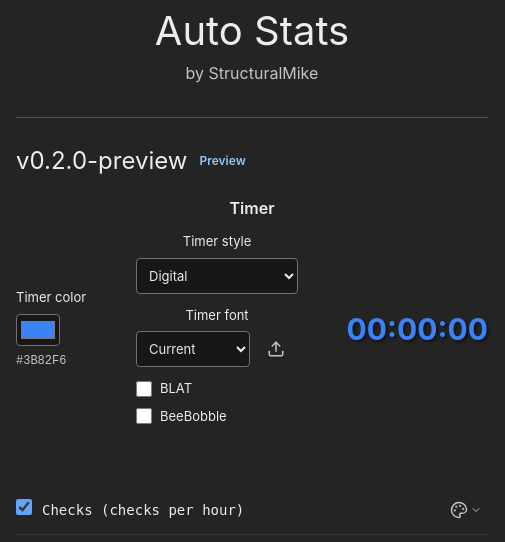
preview editor draft and save lifecycle › shows the words language only for Words and keeps it across styles
Expected: the field labelled "Words language" is not shown
Select "Words" in the dropdown labelled "Timer style" at x=217, y=276, box [136, 258, 298, 294]
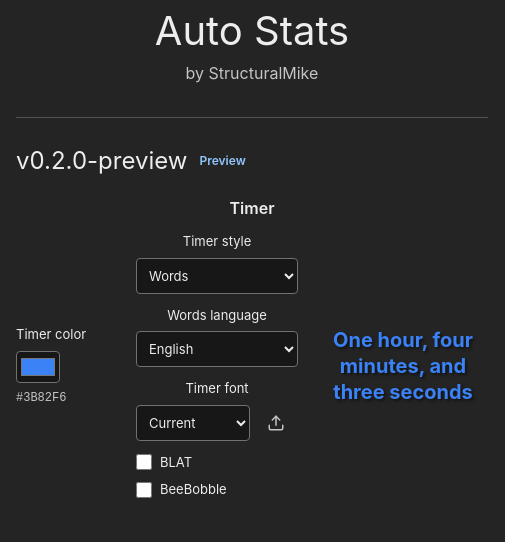
Now the dropdown labelled "Words language" shows "English"
Select "한국어" in the dropdown labelled "Words language" at x=217, y=349, box [136, 331, 298, 367]
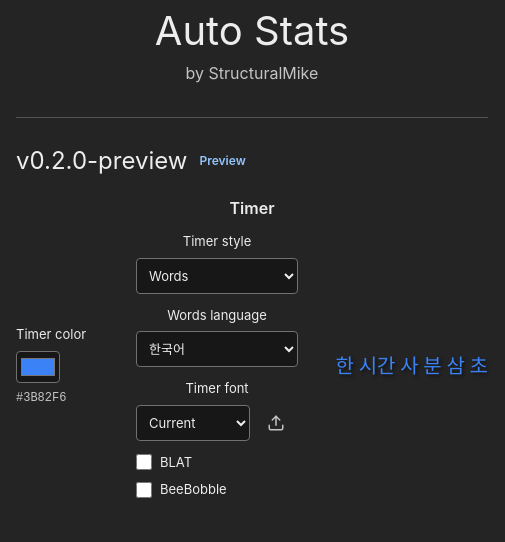
Now the element named "Timer preview" reads "한 시간 사 분 삼 초", box [336, 354, 488, 378]
Select "Roman numerals" in the dropdown labelled "Timer style" at x=217, y=276, box [136, 258, 298, 294]
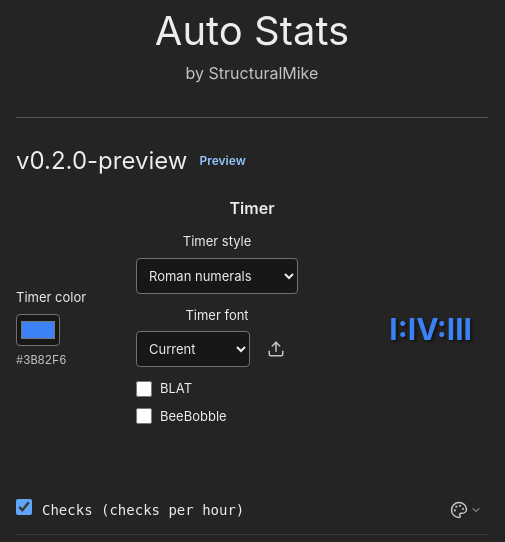
Now the label labelled "Words language" is gone
Now the element named "Timer preview" reads "I:IV:III", box [389, 310, 472, 346]
Select "Words" in the dropdown labelled "Timer style" at x=217, y=276, box [136, 258, 298, 294]
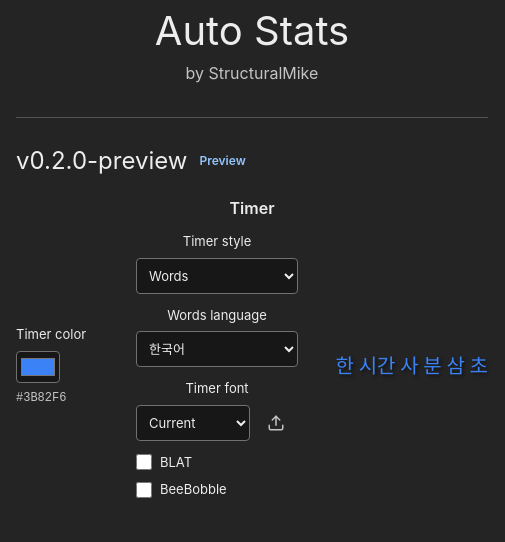
Now the dropdown labelled "Words language" shows "한국어"
Select "Latina" in the dropdown labelled "Words language" at x=217, y=349, box [136, 331, 298, 367]
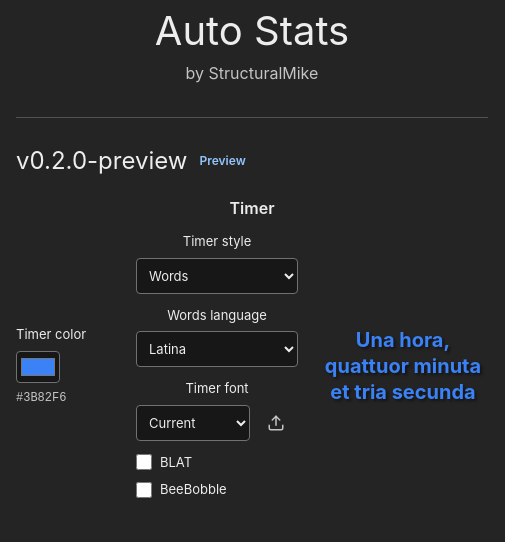
Now the element named "Timer preview" reads "Una hora, quattuor minuta et tria secunda", box [325, 328, 481, 404]
